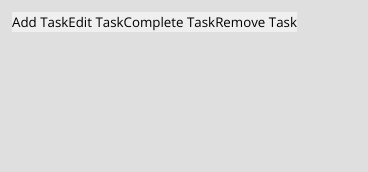
Context: Task Provider › should edit a task, given the correct Id, title and description
Check: the button "Edit Task" is shown, box [68, 12, 124, 32]
Step 1. Click the button "Add Task" → (40, 22), box [12, 12, 68, 32]
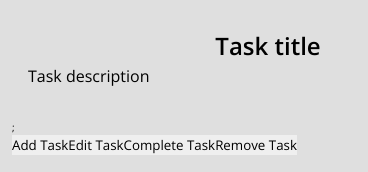
Check: the number of headings "Task title" is 1, box [215, 28, 321, 64]
Step 2. Click the button "Edit Task" → (96, 145), box [68, 135, 124, 155]
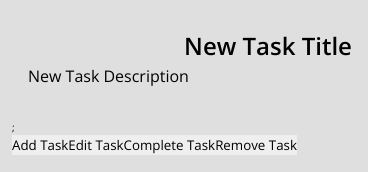
Check: the number of headings "New Task Title" is 1, box [184, 28, 352, 64]
Check: the text "New Task Description" is shown, box [28, 65, 189, 87]
